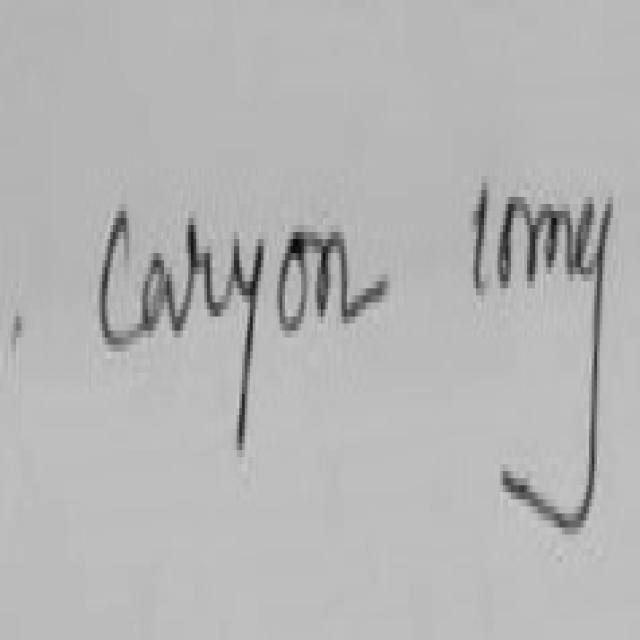0: (500, 197, 532, 285)
1: (476, 190, 489, 285)
C: (99, 211, 145, 352)
a: (143, 253, 183, 335)
g: (503, 204, 614, 535), (578, 204, 597, 274)
m: (530, 204, 575, 278)
n: (307, 232, 390, 324)
o: (280, 239, 307, 331)
r: (175, 225, 226, 327)
y: (234, 239, 264, 450)
